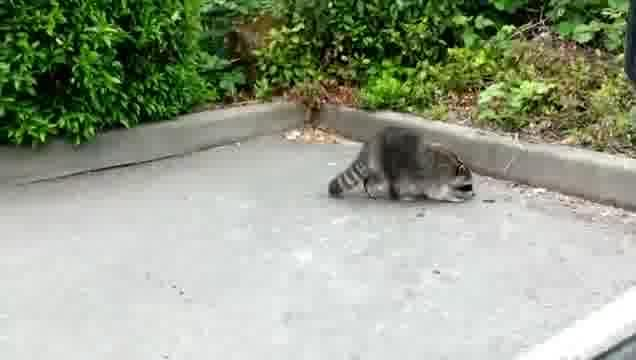raccoon: (316, 127, 487, 221)
